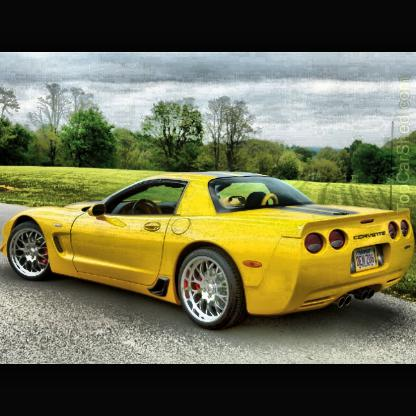Chevrolet Corvette Convertible 2012: (2, 160, 416, 339)
